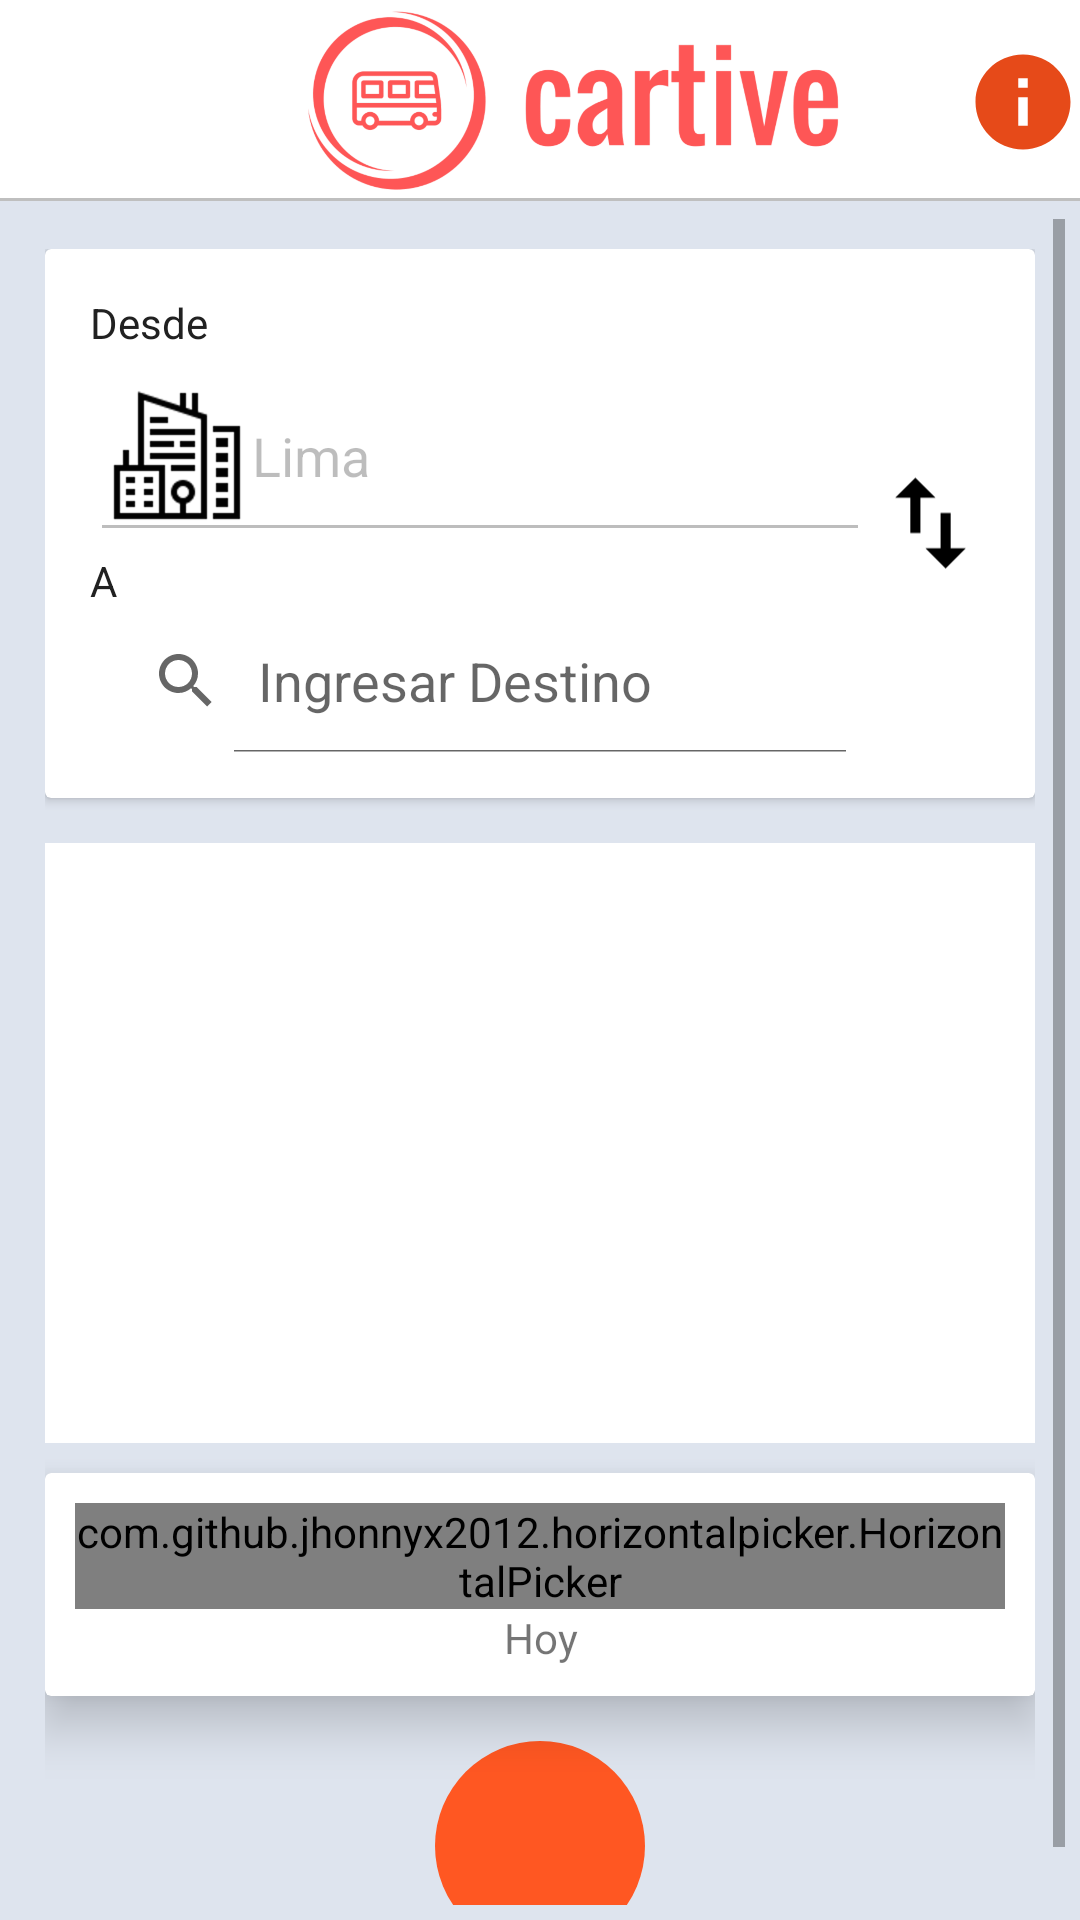

Point at icon controls on the screen. Image size 1080px x 1920px, points as (x,y).
change: (930,523)
info: (1023,102)
